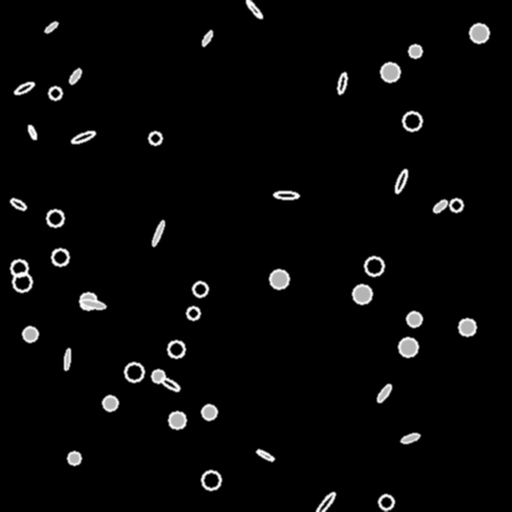pseudomonas: (314, 491, 336, 512), (393, 168, 409, 194), (150, 220, 166, 246), (71, 129, 95, 145), (245, 0, 263, 19), (160, 376, 180, 392), (376, 383, 392, 403), (80, 298, 106, 310), (14, 81, 34, 95), (336, 72, 348, 94), (432, 198, 448, 214), (9, 197, 27, 211), (68, 68, 82, 84), (401, 432, 419, 444), (256, 449, 274, 461), (44, 20, 58, 34), (201, 30, 213, 46), (63, 348, 71, 370), (27, 124, 37, 140), (274, 192, 298, 198)
synechocystis: (403, 112, 421, 130), (399, 338, 417, 356), (202, 471, 220, 489), (353, 285, 371, 303), (125, 363, 143, 381), (381, 63, 399, 81), (365, 257, 383, 275), (470, 24, 488, 42), (13, 273, 31, 291), (270, 270, 288, 288), (47, 210, 63, 226), (11, 260, 27, 276), (168, 341, 184, 357), (52, 249, 68, 265), (169, 412, 185, 428), (80, 293, 96, 309), (459, 319, 475, 335), (379, 495, 393, 509), (23, 327, 37, 341), (103, 396, 117, 410), (407, 312, 421, 326), (202, 405, 216, 419), (193, 282, 207, 296), (68, 452, 80, 464), (450, 199, 462, 211), (149, 132, 161, 144), (187, 307, 199, 319), (49, 87, 61, 99), (409, 45, 421, 57), (152, 370, 164, 382)
